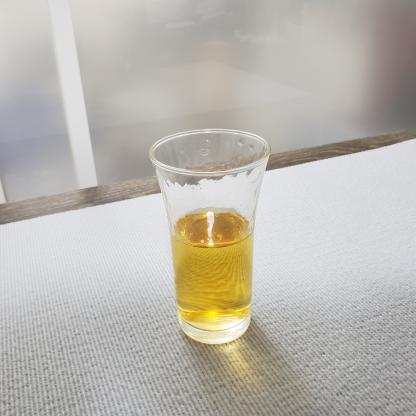glass: (148, 124, 290, 353)
